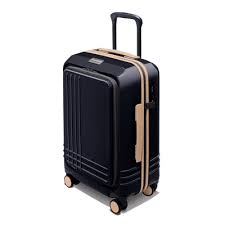suitcase: (59, 12, 162, 215)
